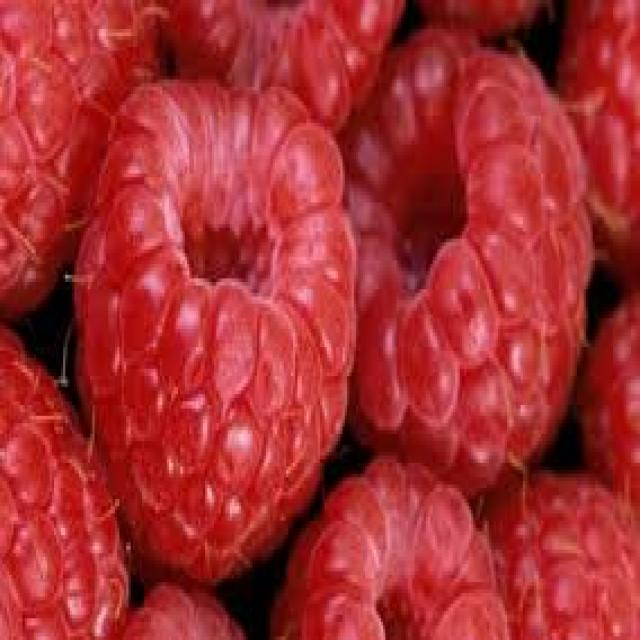organic waste: (75, 80, 352, 590), (340, 29, 577, 477), (0, 0, 169, 344), (264, 452, 516, 636), (0, 322, 131, 636), (142, 0, 406, 112), (487, 445, 638, 636), (559, 0, 638, 286), (579, 282, 638, 495), (119, 572, 257, 636), (412, 0, 559, 36)
